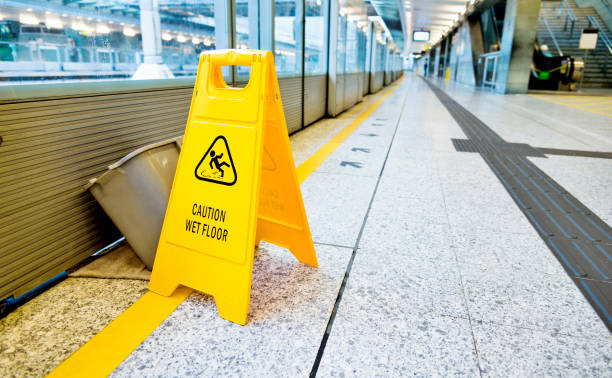wet caution sign: (154, 28, 315, 305)
